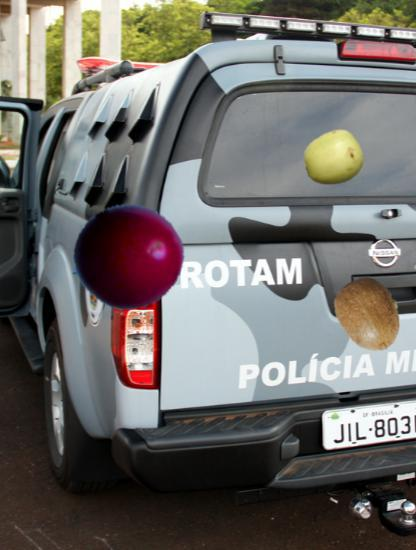Apple: (304, 129, 363, 188)
Kiwi: (329, 276, 408, 355)
Tamarillo: (71, 201, 184, 314)
